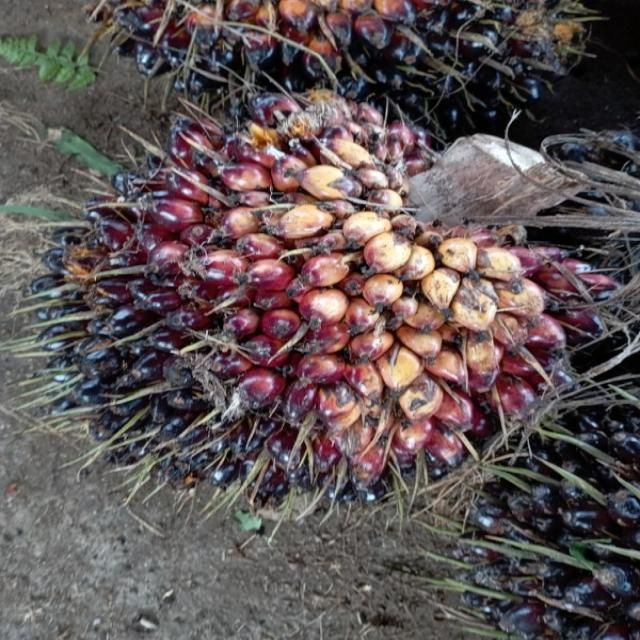fraksi 1: (30, 74, 608, 535)
